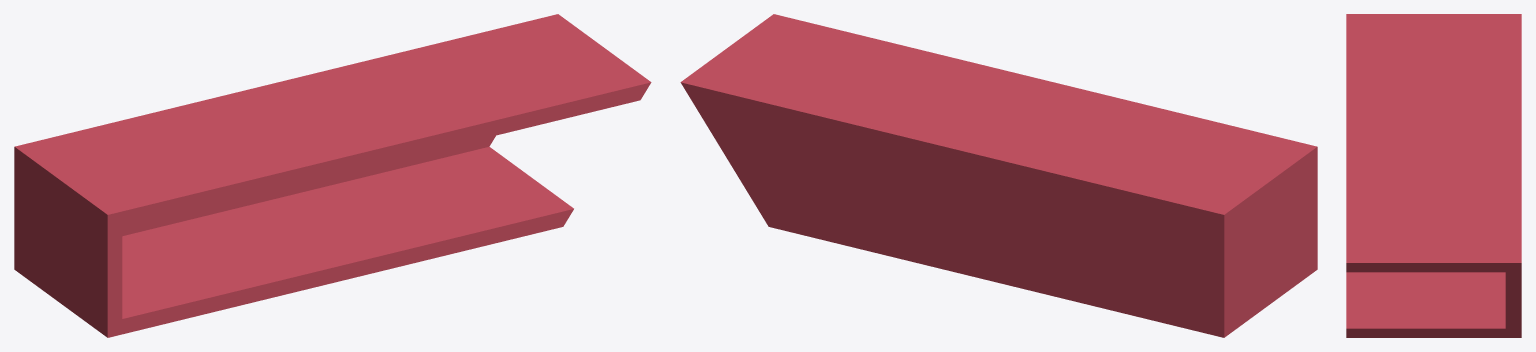
File: characterSelectHangar.glb
The picture shows the model from 3 angles, left to right: view 1: azimuth 30°, elevation 25°; view 2: azimuth 150°, elevation 25°; view 3: azimuth 270°, elevation 25°; orthographic projection. The views are drawn at different scales.
Parts seen in each view (by area): view 1: Mesh_Mesh_head_geo.001_lambert2SG.001; view 2: Mesh_Mesh_head_geo.001_lambert2SG.001; view 3: Mesh_Mesh_head_geo.001_lambert2SG.001.
Boxes of the visible parts, x1,y1,x2,y2 form: Mesh_Mesh_head_geo.001_lambert2SG.001: (14, 14, 651, 337); Mesh_Mesh_head_geo.001_lambert2SG.001: (680, 14, 1317, 337); Mesh_Mesh_head_geo.001_lambert2SG.001: (1346, 14, 1521, 337).
Size of the model in its own units: 37 by 8 by 11.
